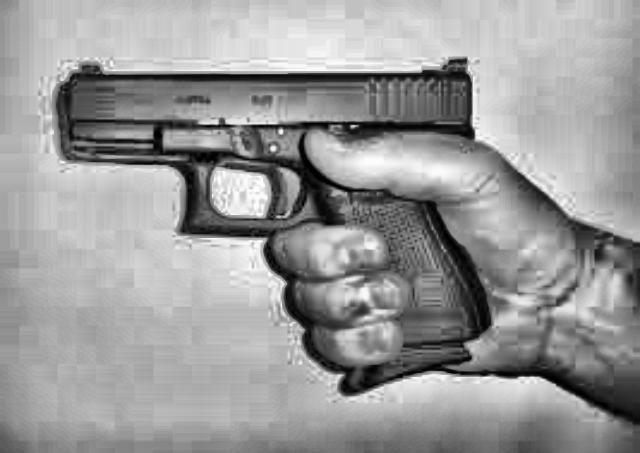pistol: (51, 58, 493, 391)
